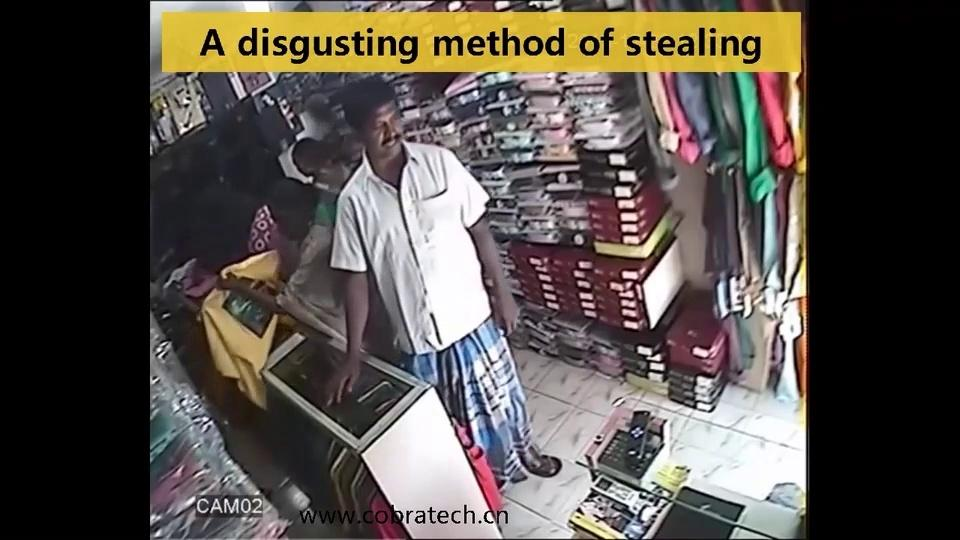Product: (195, 272, 269, 377)
Product-Picked: (231, 186, 304, 317)
Regular: (322, 78, 571, 463)
